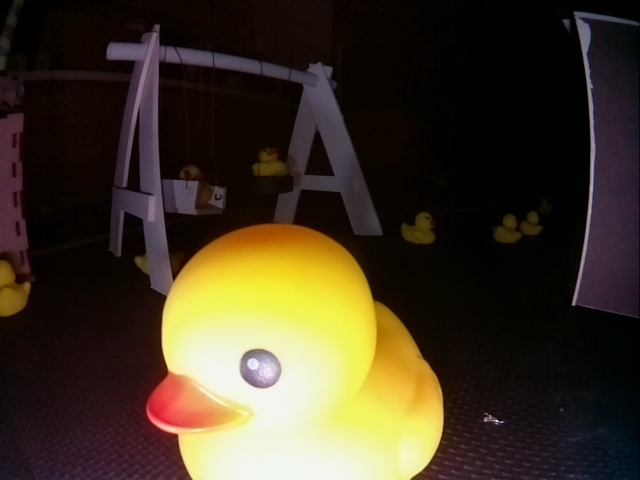Duckie: (155, 225, 442, 466), (5, 260, 30, 317), (402, 212, 435, 242), (136, 249, 179, 272), (252, 148, 287, 175), (496, 214, 519, 238), (524, 213, 541, 235)
